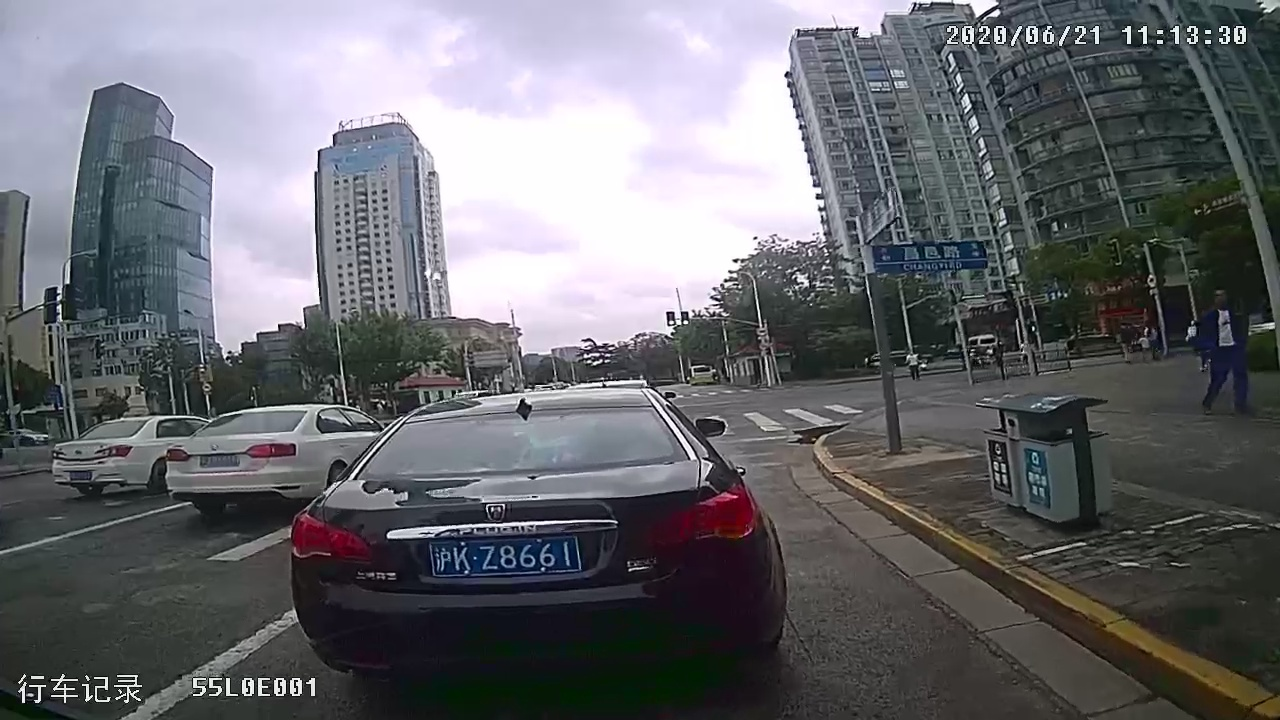crosswalk: (699, 404, 862, 432)
